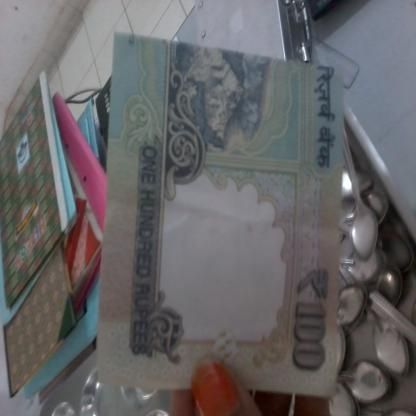Old100Back: (98, 28, 344, 398)
